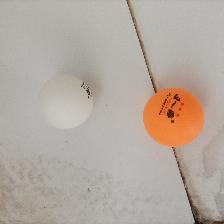WhiteBall: (37, 74, 94, 129)
YellowBall: (142, 86, 204, 147)
